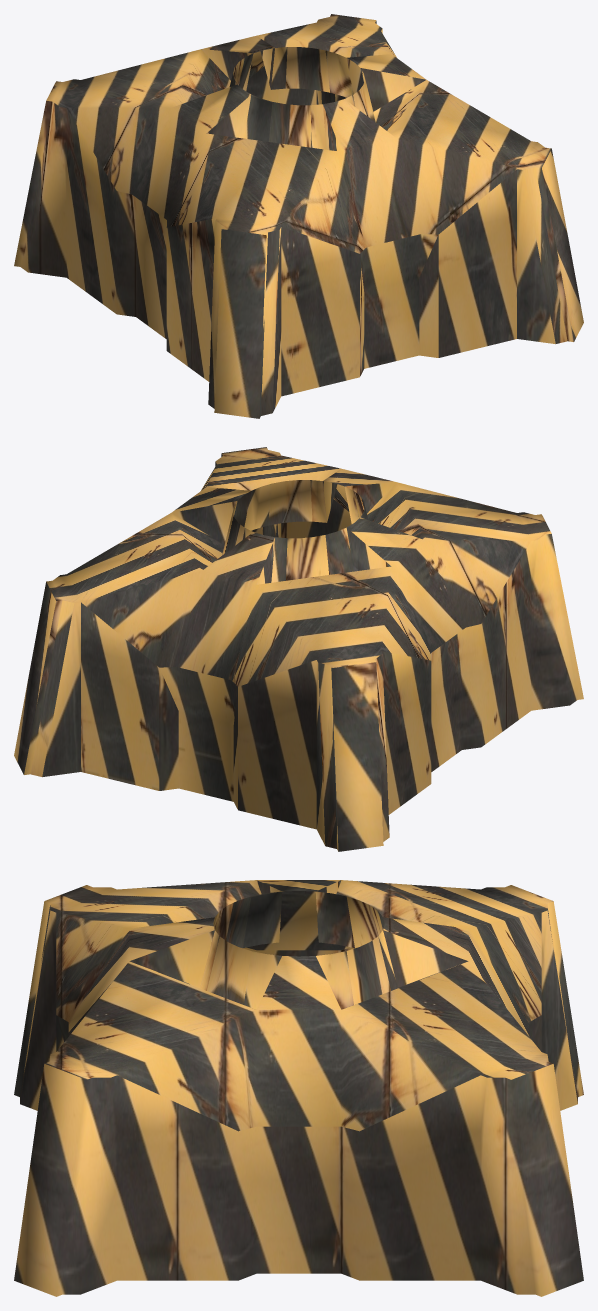
Rendered from heavyTurret_base_lod1.obj.
The picture shows the model from 3 angles, top to bottom: view 1: azimuth 30°, elevation 25°; view 2: azimuth 150°, elevation 25°; view 3: azimuth 270°, elevation 25°; orthographic projection. The views are drawn at different scales.
Visible parts, largest first — view 1: Turret_base_Cube.003; view 2: Turret_base_Cube.003; view 3: Turret_base_Cube.003.
Part boxes in pixels (x1,y1,x2,y2): Turret_base_Cube.003: (14, 14, 583, 418); Turret_base_Cube.003: (14, 447, 583, 851); Turret_base_Cube.003: (14, 880, 583, 1296).
Size of the model in its own units: 2.41 by 1.36 by 2.66.
Materials: 1 (1 with a texture image).
